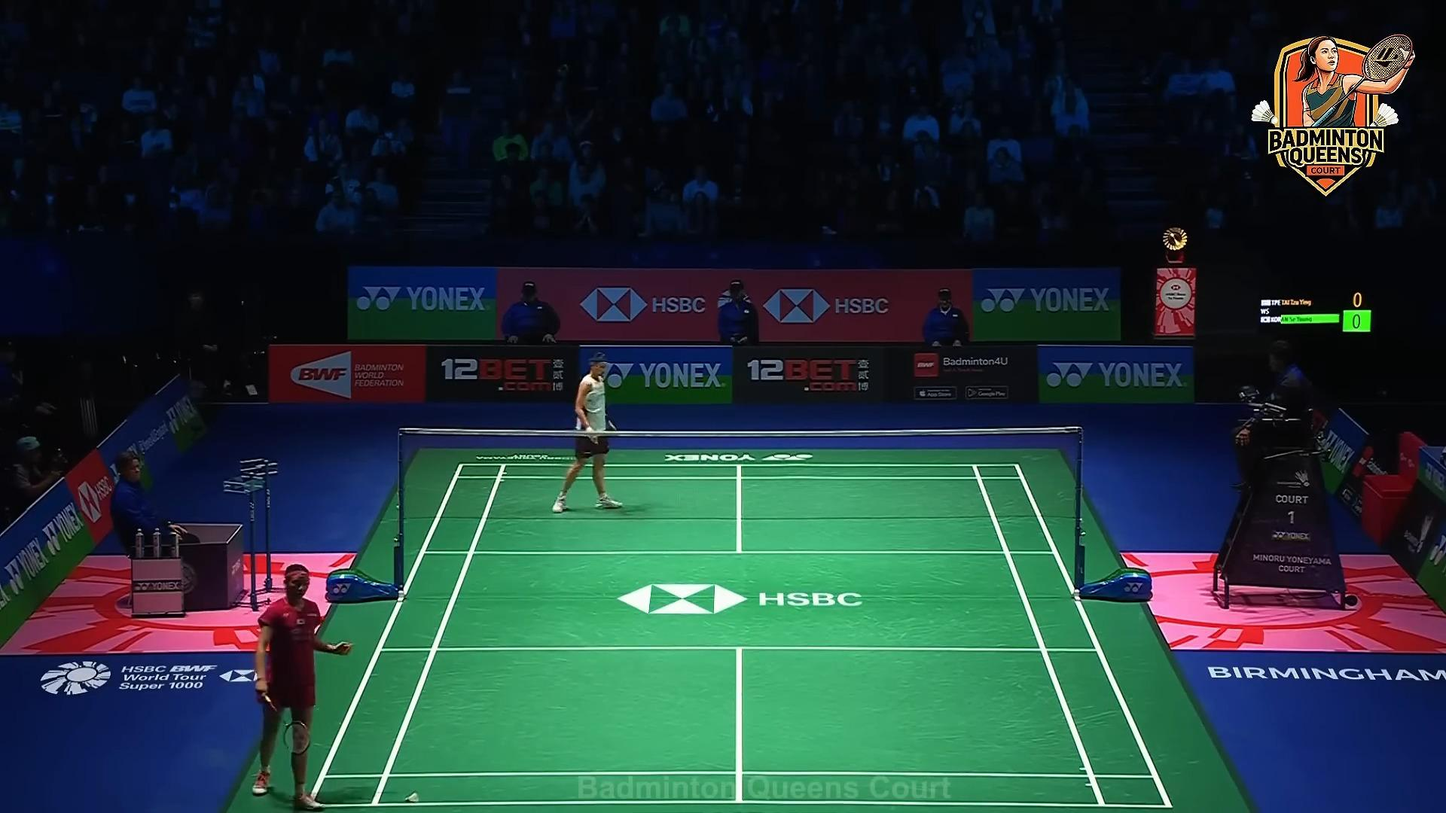shuttlecock: (403, 790, 418, 803)
